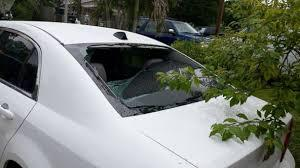Rear-windscreen-Damage: (83, 38, 224, 123)
